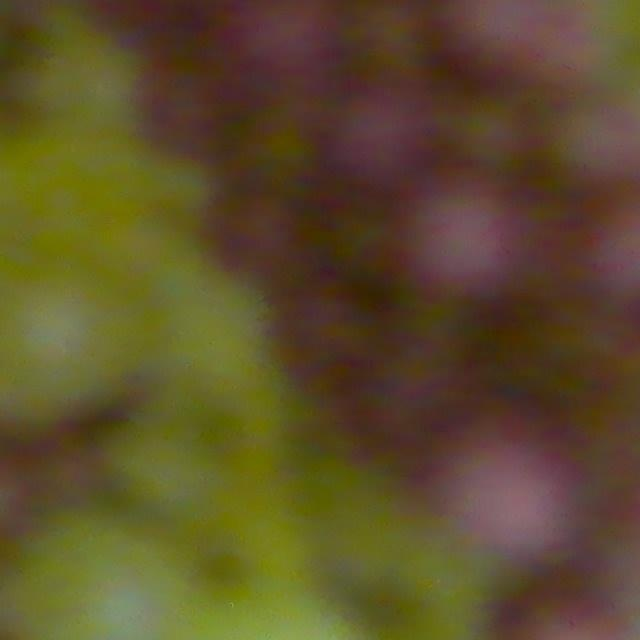SeaGrape: (434, 414, 569, 550), (232, 0, 341, 96), (328, 98, 428, 183), (432, 197, 511, 287)
